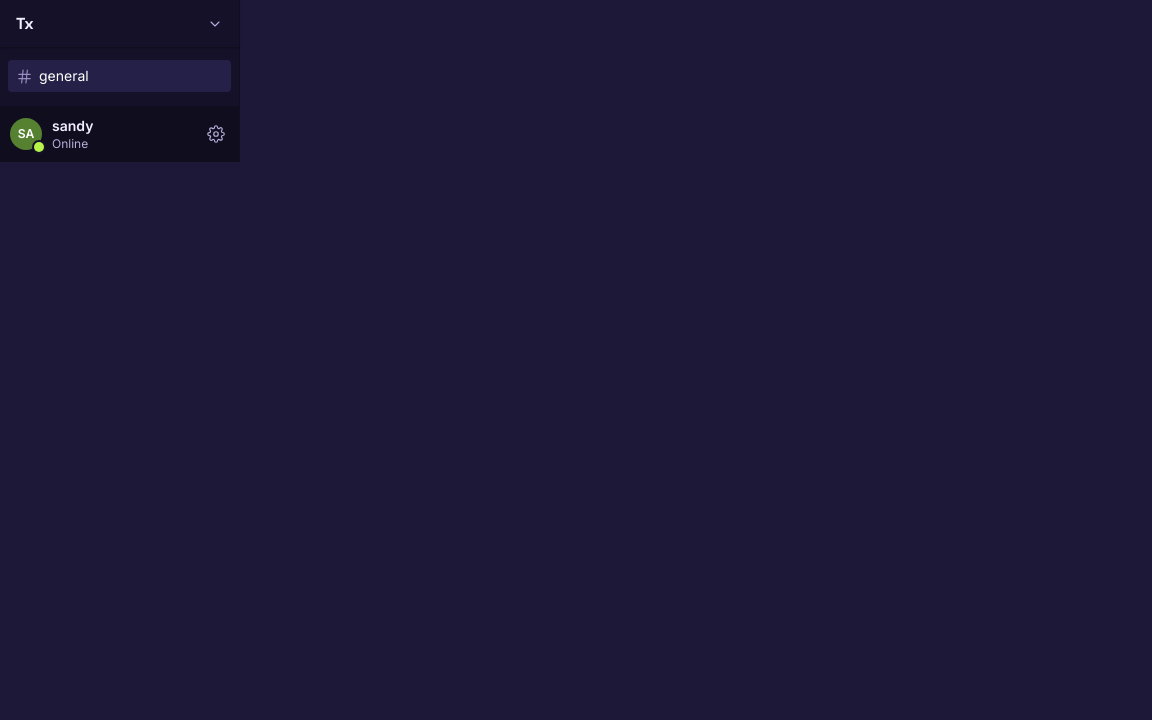
Scenario: the owner sees every section, Moderation as a group
Click the button "Tx" at coordinates (120, 24), box left=8, top=0, right=231, bottom=47
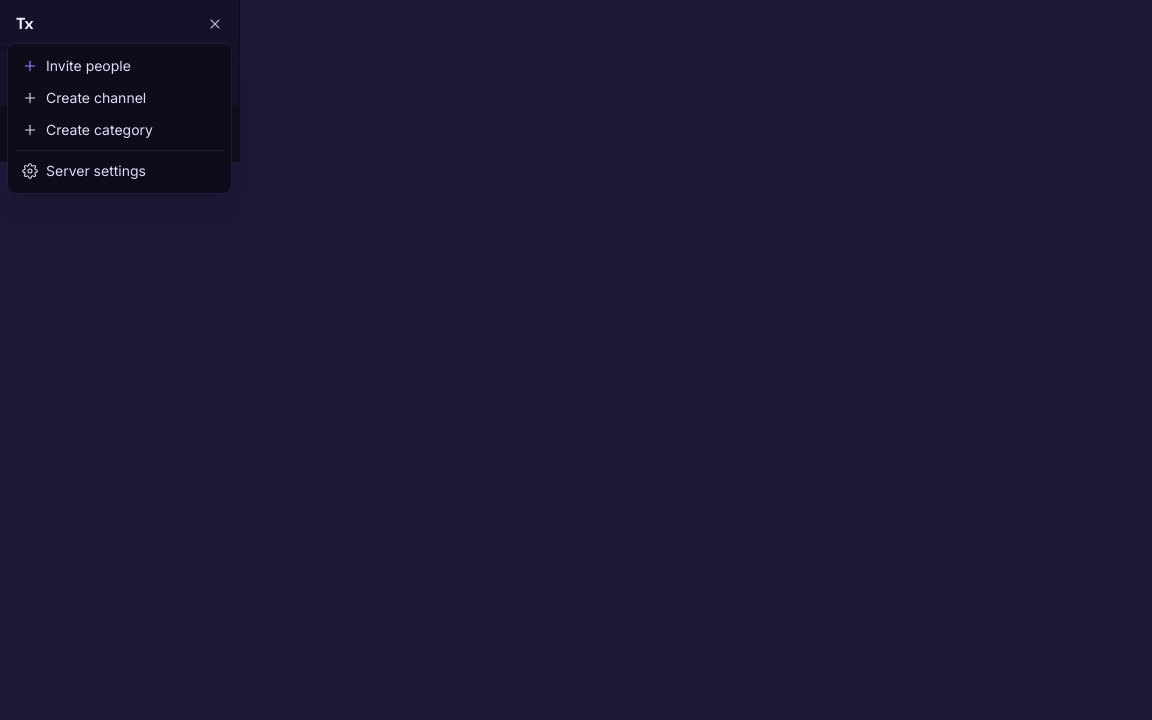
Click the button "Server settings" at coordinates (120, 171), box left=14, top=155, right=225, bottom=187
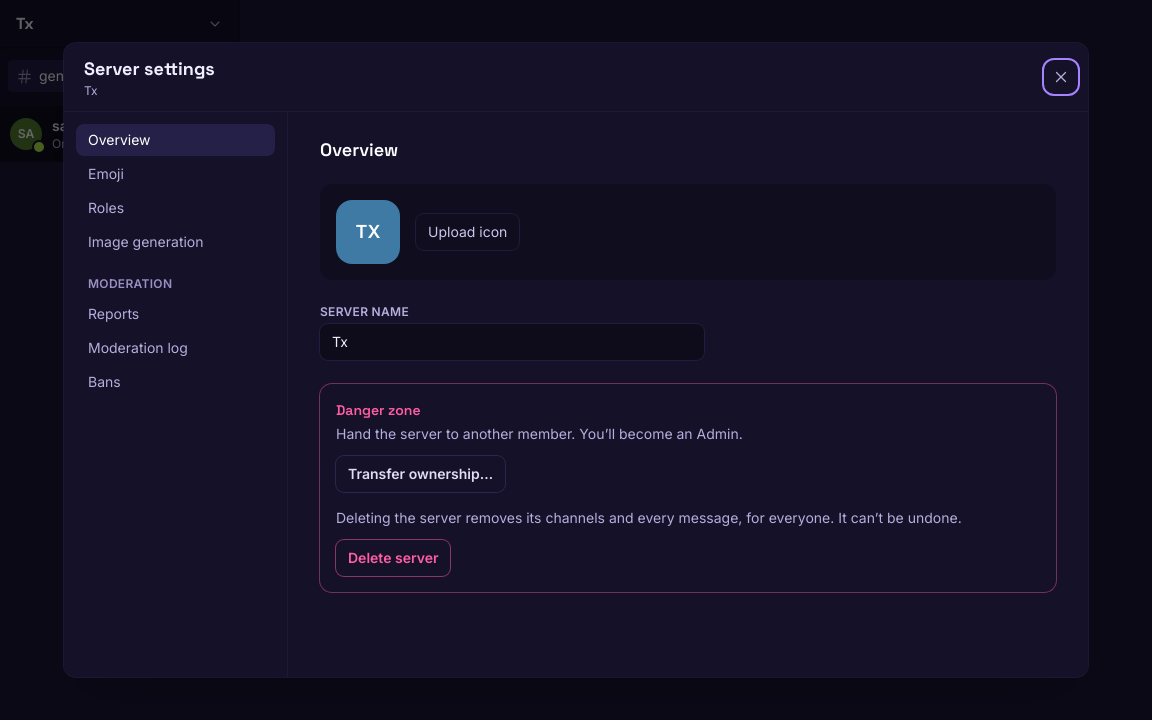
Now the text "Moderation" is shown, box left=88, top=276, right=172, bottom=291
Now the text "Tx" is shown, box left=84, top=83, right=98, bottom=98
